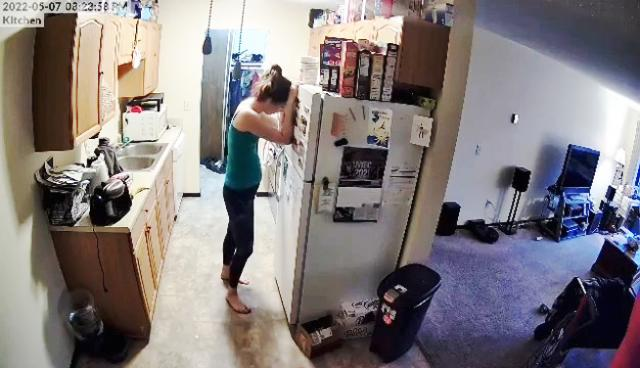berdiri: (212, 64, 302, 320)
